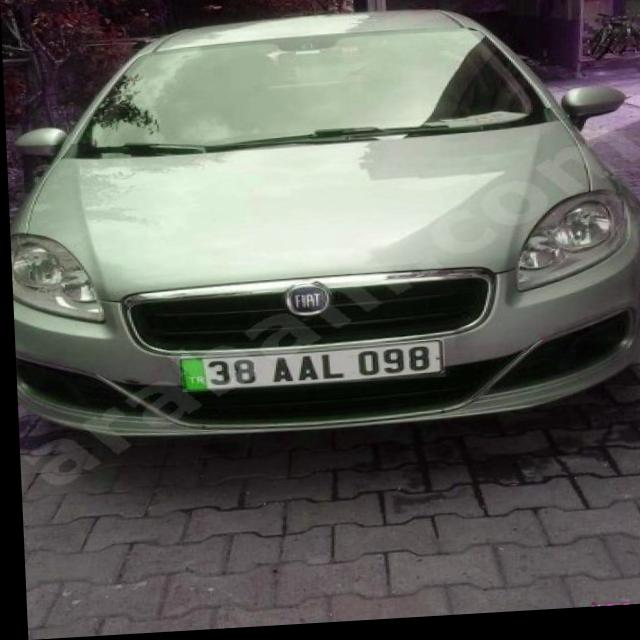license_plate: (178, 345, 442, 395)
